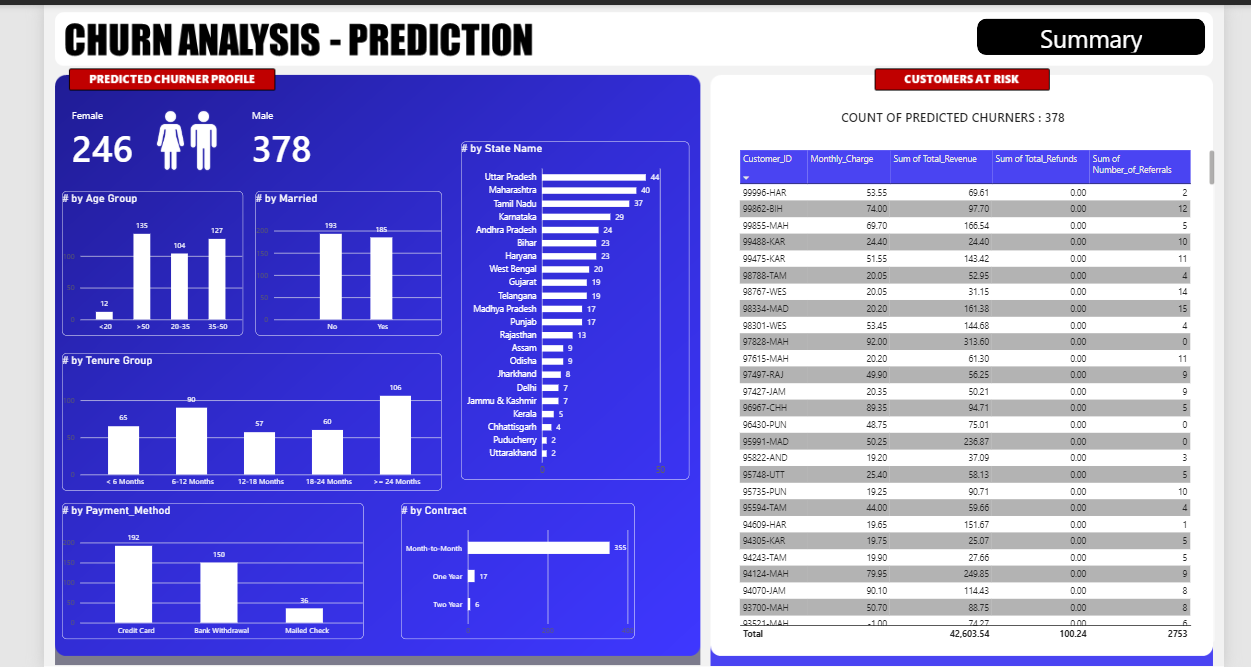

This screenshot's page, from the dashboard's own definition file:
{"tool":"powerbi","page":{"name":"Churn Prediction","canvas":[1920,1080],"ordinal":2},"visuals":[{"type":"tableEx","fields":{"Values":["Prediction_Data.Customer_ID","Prediction_Data.Monthly_Charge","Sum(Prediction_Data.Total_Revenue)","Sum(Prediction_Data.Total_Refunds)","Sum(Prediction_Data.Number_of_Referrals)"]},"box":[1114,221.1,805,830.6],"z":0},{"type":"cardVisual","fields":{"Data":["tbl_Measures.Title Predicted Churner"]},"box":[1281.3,141.7,402.6,80.5],"z":1000},{"type":"cardVisual","fields":{"Data":["tbl_Measures.Count Predicted Churner"]},"box":[28.3,136.1,223.9,167.2],"z":2000},{"type":"cardVisual","fields":{"Data":["tbl_Measures.Count Predicted Churner"]},"box":[323.2,136.1,240.9,167.2],"z":3000},{"type":"clusteredColumnChart","fields":{"Category":["Prediction_Data.Married"],"Y":["CountNonNull(Prediction_Data.Customer_ID)"]},"box":[343,303.3,303.3,235.3],"z":4000},{"type":"clusteredColumnChart","fields":{"Category":["mapping_AgeGrp.Age Group"],"Y":["CountNonNull(Prediction_Data.Customer_ID)"]},"box":[28.3,303.3,294.8,235.3],"z":5000},{"type":"clusteredColumnChart","fields":{"Category":["mapping_TenureGrp.Tenure Group"],"Y":["CountNonNull(Prediction_Data.Customer_ID)"]},"box":[28.3,566.9,618,223.9],"z":6000},{"type":"clusteredColumnChart","fields":{"Category":["Prediction_Data.Payment_Method"],"Y":["CountNonNull(Prediction_Data.Customer_ID)"]},"box":[28.3,810.7,490.4,221.1],"z":7000},{"type":"clusteredBarChart","fields":{"Category":["Prediction_Data.Contract"],"Y":["CountNonNull(Prediction_Data.Customer_ID)"]},"box":[581.1,810.7,379.8,221.1],"z":8000},{"type":"clusteredBarChart","fields":{"Category":["Prediction_Data.State Name"],"Y":["CountNonNull(Prediction_Data.Customer_ID)"]},"box":[677.5,221.1,371.3,549.9],"z":9000},{"type":"image","box":[141.7,158.7,181.4,121.9],"z":10000},{"type":"shape","box":[1516.5,22.7,371.3,59.5],"z":11000},{"type":"shape","box":[445,1020.5,371.3,59.5],"z":12000}]}

Visuals, with their boxes on the page's 1920x1080 design canvas (x1, y1, x2, y2). These are canvas units, not pixel positions in the 1251x667 screenshot, which may show the page scaled, cropped or inside an application window:
tableEx - Prediction_Data.Customer_ID x Prediction_Data.Monthly_Charge: BBox(1114, 221, 1919, 1052)
cardVisual - tbl_Measures.Title Predicted Churner: BBox(1281, 142, 1684, 222)
cardVisual - tbl_Measures.Count Predicted Churner: BBox(28, 136, 252, 303)
cardVisual - tbl_Measures.Count Predicted Churner: BBox(323, 136, 564, 303)
clusteredColumnChart - Prediction_Data.Married x CountNonNull(Prediction_Data.Customer_ID): BBox(343, 303, 646, 539)
clusteredColumnChart - mapping_AgeGrp.Age Group x CountNonNull(Prediction_Data.Customer_ID): BBox(28, 303, 323, 539)
clusteredColumnChart - mapping_TenureGrp.Tenure Group x CountNonNull(Prediction_Data.Customer_ID): BBox(28, 567, 646, 791)
clusteredColumnChart - Prediction_Data.Payment_Method x CountNonNull(Prediction_Data.Customer_ID): BBox(28, 811, 519, 1032)
clusteredBarChart - Prediction_Data.Contract x CountNonNull(Prediction_Data.Customer_ID): BBox(581, 811, 961, 1032)
clusteredBarChart - Prediction_Data.State Name x CountNonNull(Prediction_Data.Customer_ID): BBox(678, 221, 1049, 771)
image: BBox(142, 159, 323, 281)
shape: BBox(1516, 23, 1888, 82)
shape: BBox(445, 1020, 816, 1080)
